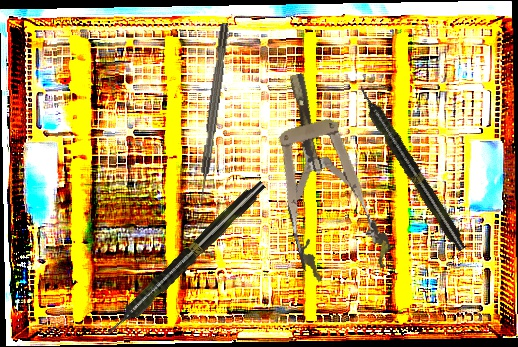Handpiece: (101, 176, 270, 341), (353, 82, 470, 254)
Hook Surgical: (195, 22, 231, 205)
Speculum: (253, 62, 396, 288)
